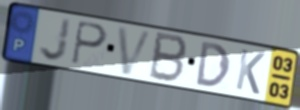B: (147, 30, 190, 85)
D: (195, 40, 232, 89)
J: (38, 16, 73, 63)
K: (233, 47, 267, 97)
P: (70, 19, 109, 67)
V: (115, 25, 156, 78)
